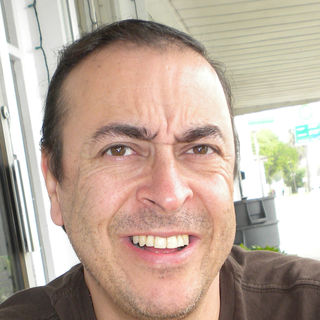eye: (175, 139, 225, 164), (92, 140, 146, 163)
